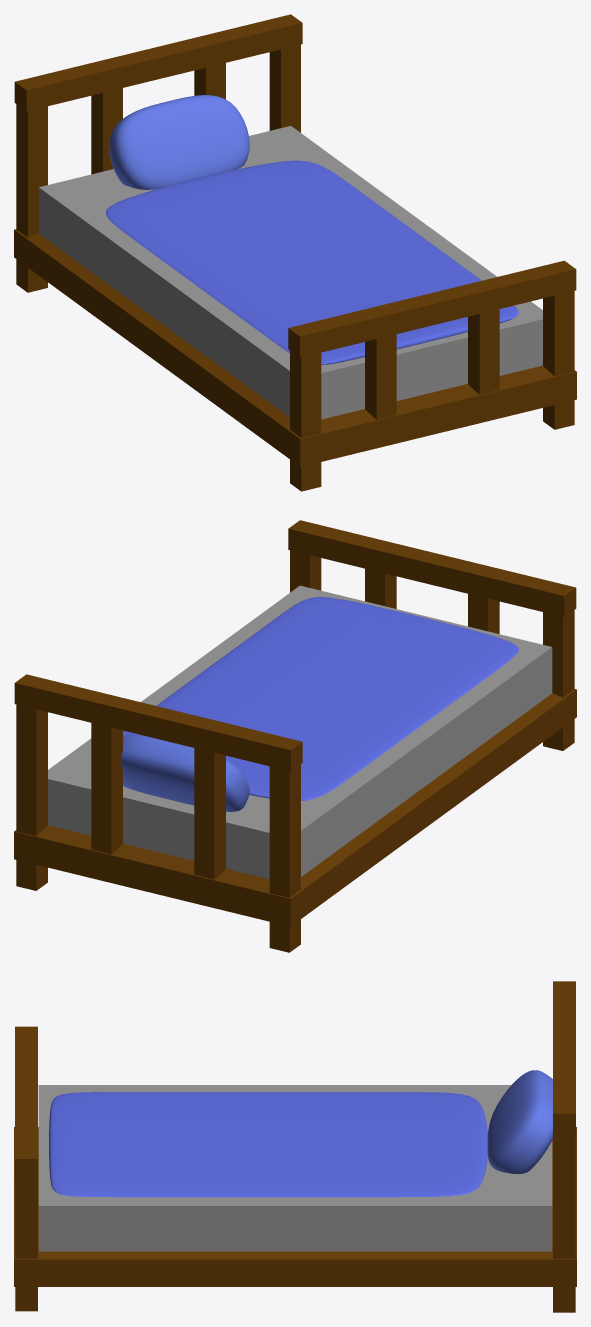
The model's file is Bed.fbx.
3 renders of one model, top to bottom at view 1: azimuth 30°, elevation 25°; view 2: azimuth 150°, elevation 25°; view 3: azimuth 270°, elevation 25°, orthographic.
Parts seen in each view (by area): view 1: Cube, Cube.012, Cube.011, Cube.010, Cube.005, Cube.001, Cube.006, Cube.007, Cube.002, Cube.008, Cube.009, Cube.004 (+1 smaller); view 2: Cube, Cube.012, Cube.005, Cube.010, Cube.011, Cube.001, Cube.002, Cube.004, Cube.003, Cube.006, Cube.007, Cube.008 (+1 smaller); view 3: Cube, Cube.012, Cube.011, Cube.005, Cube.010, Cube.002, Cube.007.
Boxes of the visible parts, left/top/right/bottom form: Cube: left=14, top=126, right=576, bottom=466; Cube.012: left=106, top=160, right=518, bottom=364; Cube.011: left=109, top=95, right=249, bottom=189; Cube.010: left=288, top=260, right=576, bottom=357; Cube.005: left=14, top=14, right=302, bottom=111; Cube.001: left=16, top=104, right=47, bottom=292; Cube.006: left=290, top=350, right=321, bottom=491; Cube.007: left=543, top=291, right=574, bottom=429; Cube.002: left=269, top=44, right=300, bottom=132; Cube.008: left=468, top=309, right=499, bottom=394; Cube.009: left=365, top=334, right=396, bottom=419; Cube.004: left=91, top=88, right=122, bottom=174; Cube: left=14, top=585, right=576, bottom=926; Cube.012: left=123, top=597, right=518, bottom=800; Cube.005: left=14, top=674, right=302, bottom=771; Cube.010: left=288, top=520, right=576, bottom=617; Cube.011: left=121, top=734, right=249, bottom=811; Cube.001: left=269, top=764, right=300, bottom=952; Cube.002: left=16, top=704, right=47, bottom=890; Cube.004: left=194, top=748, right=225, bottom=879; Cube.003: left=91, top=723, right=122, bottom=854; Cube.006: left=543, top=610, right=574, bottom=750; Cube.007: left=290, top=550, right=321, bottom=592; Cube.008: left=365, top=568, right=396, bottom=608; Cube: left=14, top=1085, right=576, bottom=1286; Cube.012: left=49, top=1092, right=487, bottom=1197; Cube.011: left=487, top=1070, right=552, bottom=1173; Cube.005: left=553, top=981, right=575, bottom=1134; Cube.010: left=15, top=1026, right=37, bottom=1179; Cube.002: left=553, top=1134, right=575, bottom=1312; Cube.007: left=15, top=1180, right=37, bottom=1311.
Bounding box in the file's own units: 736 × 516 × 1321.
